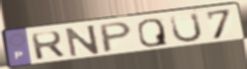7: (205, 7, 234, 41)
N: (63, 23, 102, 59)
P: (98, 21, 134, 55)
Q: (136, 17, 170, 48)
R: (29, 30, 68, 61)
U: (169, 11, 205, 44)
